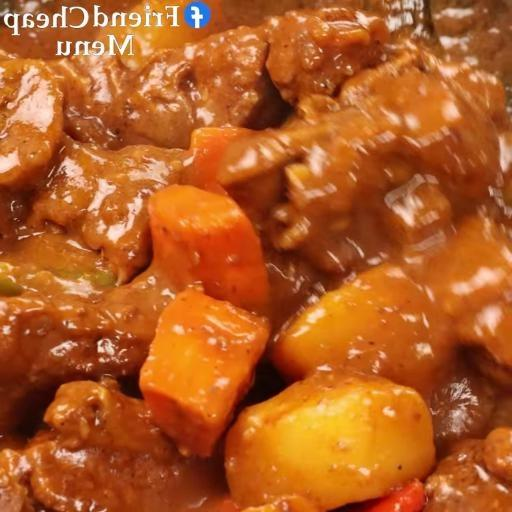pork caldereta: (6, 0, 512, 512)
